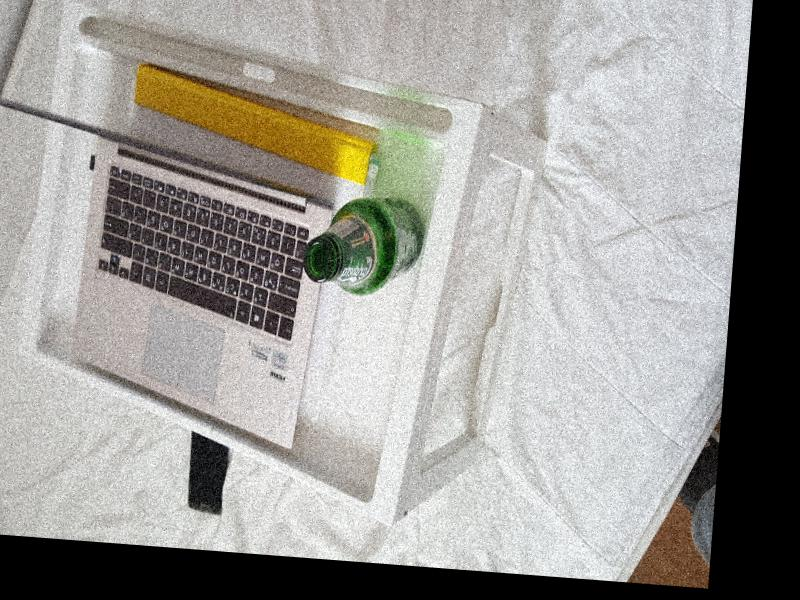Beer: (302, 191, 427, 300)
